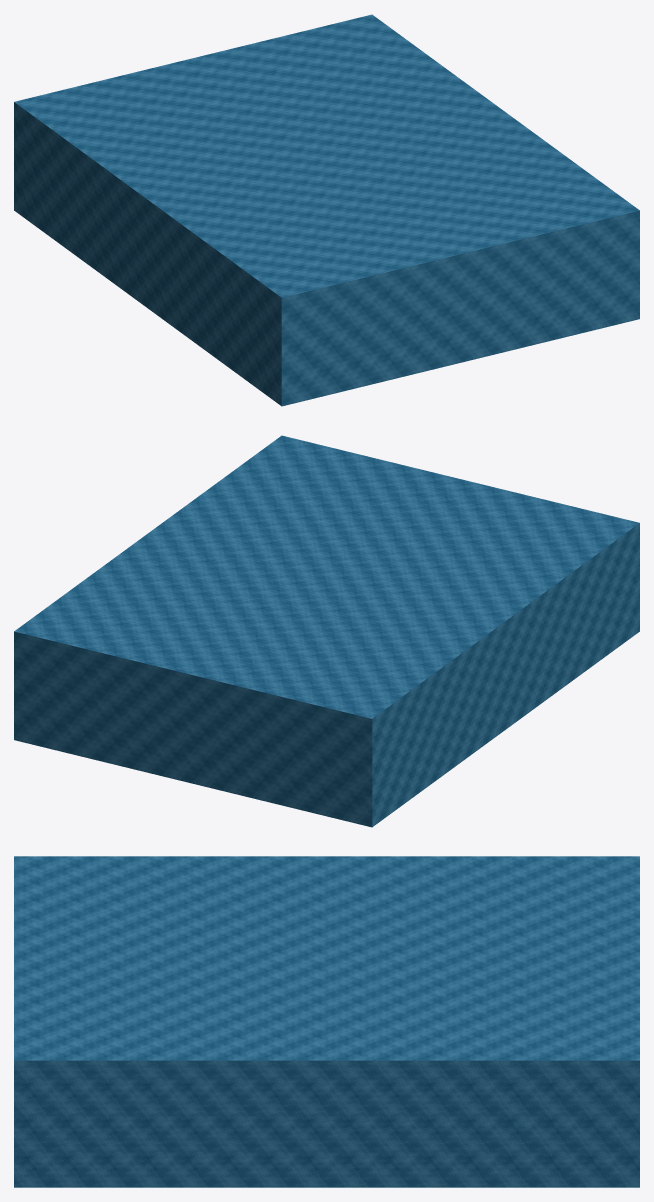
Rendered from FrozenCave_Floor.fbx.
3 renders of one model, top to bottom at view 1: azimuth 30°, elevation 25°; view 2: azimuth 150°, elevation 25°; view 3: azimuth 270°, elevation 25°, orthographic. The views are drawn at different scales.
Visible parts, largest first — view 1: WO_FrozenCave_Floor_LOD0; view 2: WO_FrozenCave_Floor_LOD0; view 3: WO_FrozenCave_Floor_LOD0.
Part boxes in pixels (<box>): WO_FrozenCave_Floor_LOD0: <box>14,14,639,406</box>; WO_FrozenCave_Floor_LOD0: <box>14,435,639,827</box>; WO_FrozenCave_Floor_LOD0: <box>14,856,639,1187</box>.
Size of what is drawn, in the model's own units: 6 by 1.74 by 7.77.
